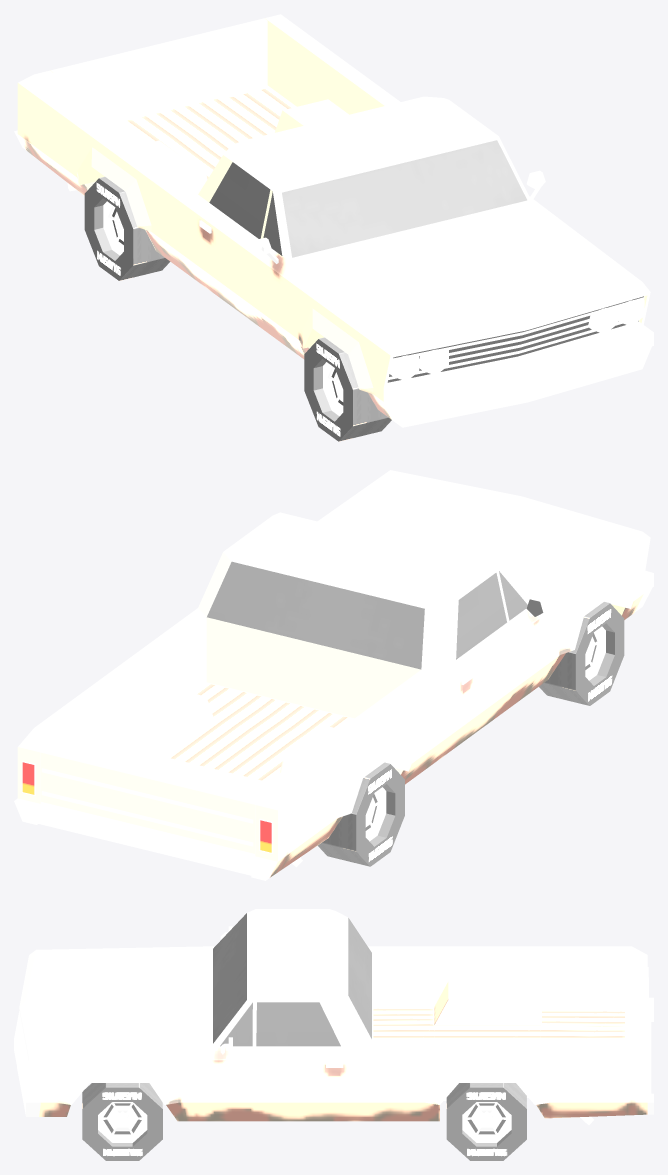
Rendered from TorqueTest.fbx.
3 views of the same model, one above another, from view 1: azimuth 30°, elevation 25°; view 2: azimuth 150°, elevation 25°; view 3: azimuth 270°, elevation 25° (orthographic). The views are drawn at different scales.
Visible parts, largest first — view 1: torque_2, torque_frontwheels_2, torque_rearwheels_2; view 2: torque_2, torque_rearwheels_2, torque_frontwheels_2; view 3: torque_2, torque_rearwheels_2, torque_frontwheels_2.
Part boxes in pixels (x1,y1,x2,y2): torque_2: (14, 14, 653, 427); torque_frontwheels_2: (304, 337, 391, 441); torque_rearwheels_2: (84, 176, 170, 280); torque_2: (14, 470, 653, 880); torque_rearwheels_2: (317, 762, 404, 866); torque_frontwheels_2: (539, 602, 624, 705); torque_2: (14, 909, 653, 1124); torque_rearwheels_2: (446, 1083, 526, 1160); torque_frontwheels_2: (82, 1083, 162, 1160).
Bounding box in the file's own units: 4.4 × 2.69 × 10.1.
